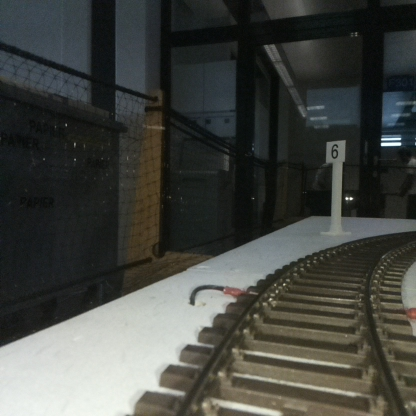white-info-6: (326, 140, 345, 236)
